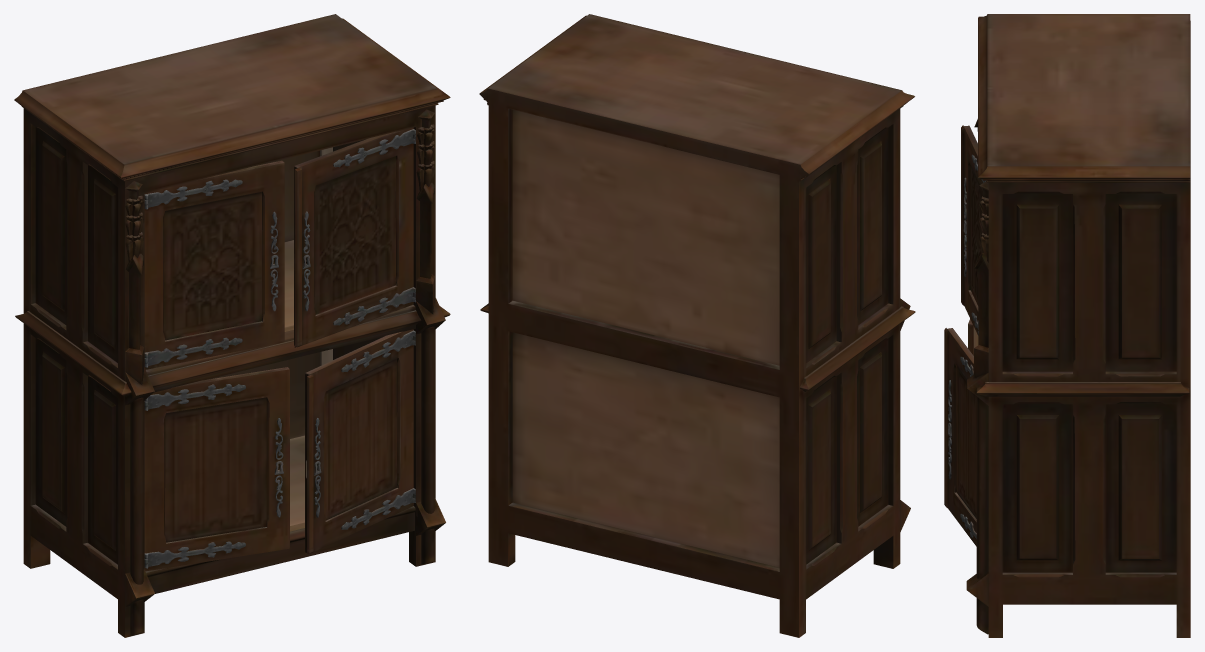
Rendered from gothiccabinet_01.glb.
3 renders of one model, left to right at view 1: azimuth 30°, elevation 25°; view 2: azimuth 150°, elevation 25°; view 3: azimuth 270°, elevation 25°, orthographic.
Parts seen in each view (by area): view 1: GothicCabinet_01_cabinet; view 2: GothicCabinet_01_cabinet; view 3: GothicCabinet_01_cabinet.
Part boxes in pixels (box(x1,y1,x2,y2)): GothicCabinet_01_cabinet: box(14, 14, 450, 637); GothicCabinet_01_cabinet: box(479, 14, 915, 637); GothicCabinet_01_cabinet: box(944, 14, 1190, 637).
Size of the model in its own units: 1.72 by 2.36 by 1.12.
1 material, 1 textured.
